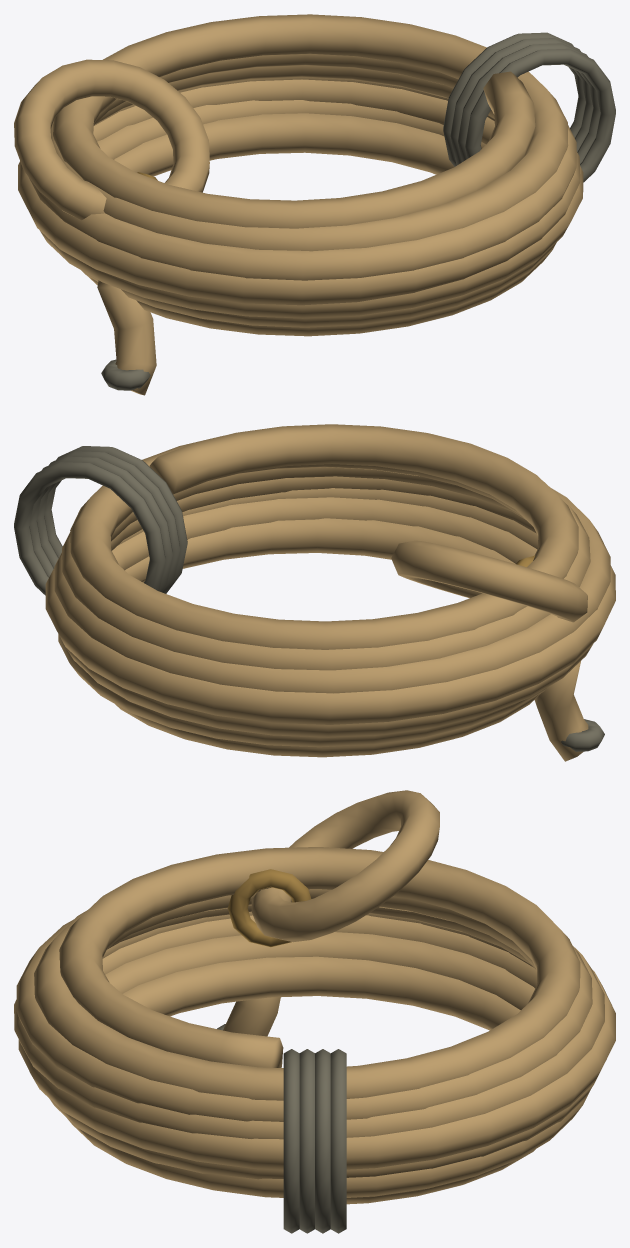
File: lasso_coil.fbx
3 renders of one model, top to bottom at view 1: azimuth 30°, elevation 25°; view 2: azimuth 150°, elevation 25°; view 3: azimuth 270°, elevation 25°, orthographic. The views are drawn at different scales.
Visible parts, largest first — view 1: Mesh_Lasso_Coil; view 2: Mesh_Lasso_Coil; view 3: Mesh_Lasso_Coil.
Boxes of the visible parts, x1=… form: Mesh_Lasso_Coil: x1=14, y1=14, x2=615, y2=395; Mesh_Lasso_Coil: x1=14, y1=424, x2=615, y2=761; Mesh_Lasso_Coil: x1=14, y1=790, x2=615, y2=1233.
Bounding box in the file's own units: 26.72 × 11.78 × 23.13.
